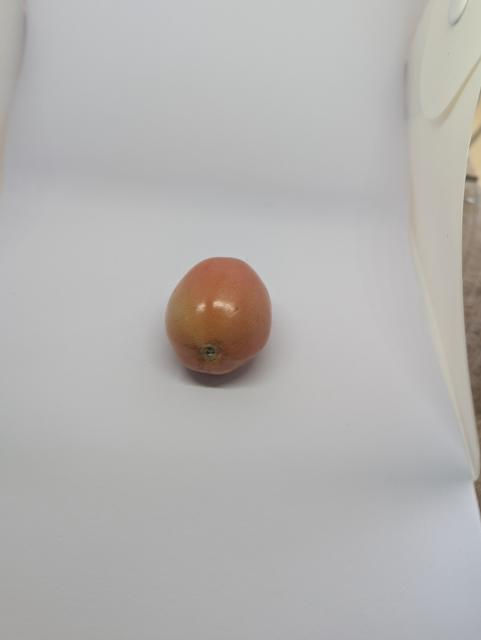turning: (155, 254, 280, 382)
